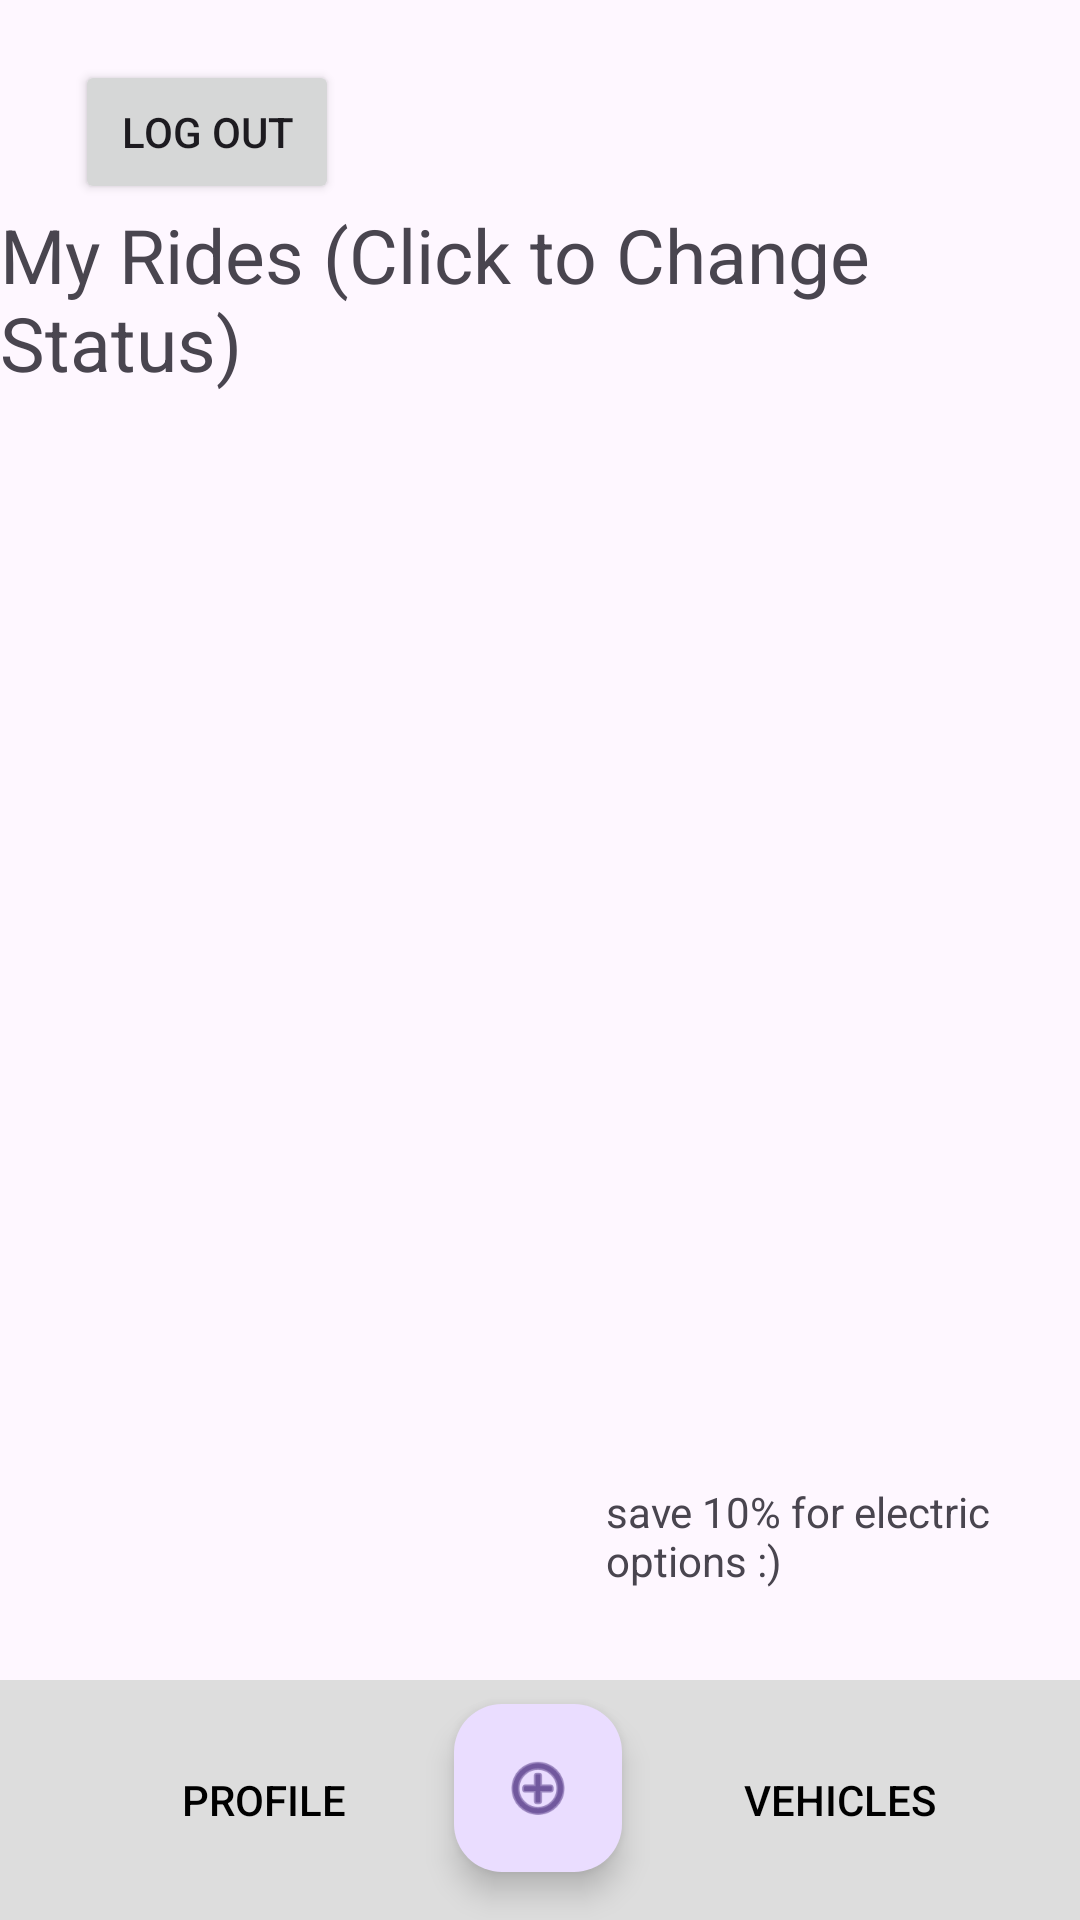

Icon bounding boxes for this 1080×1920 phone screenshot, format (x1=x1, y1=y1, x2=x2, y2=y2):
add: (x1=454, y1=1704, x2=622, y2=1872)
